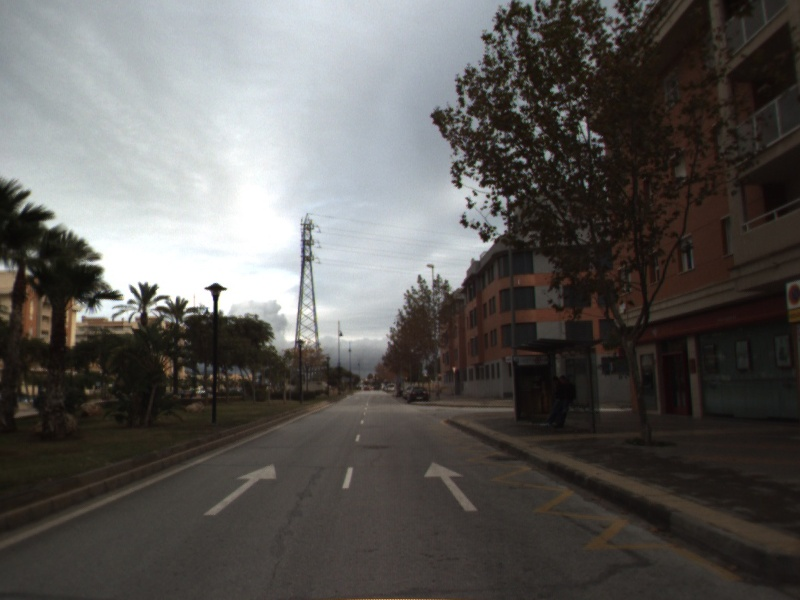STRAIGHT: (202, 462, 279, 517), (422, 460, 479, 513)
